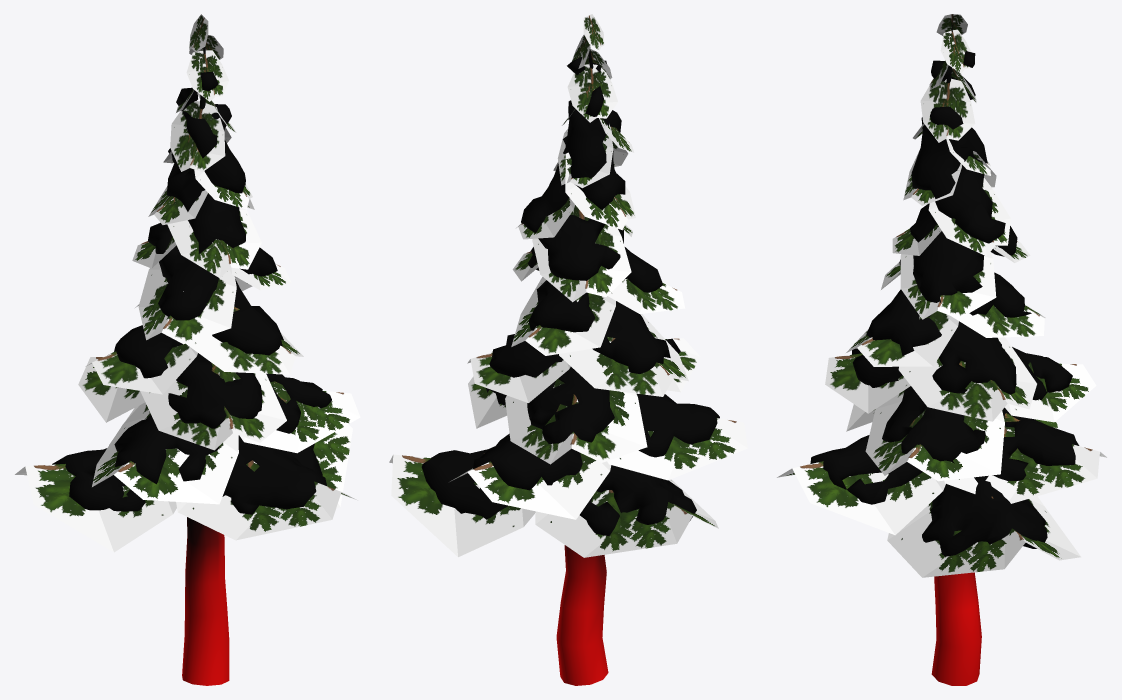
File: puugen2.fbx
3 views of the same model, side by side, from view 1: azimuth 30°, elevation 25°; view 2: azimuth 150°, elevation 25°; view 3: azimuth 270°, elevation 25° (orthographic).
Parts seen in each view (by area): view 1: Cube.001; view 2: Cube.001; view 3: Cube.001.
Part boxes in pixels (bbox=[...]): Cube.001: bbox=[15, 14, 360, 685]; Cube.001: bbox=[389, 14, 747, 685]; Cube.001: bbox=[777, 14, 1106, 685].
Bounding box in the file's own units: 2046 × 3996 × 1815.
3 materials, 1 textured.
